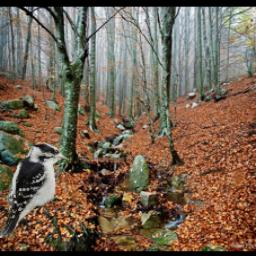Woodpecker: (0, 140, 74, 238)
